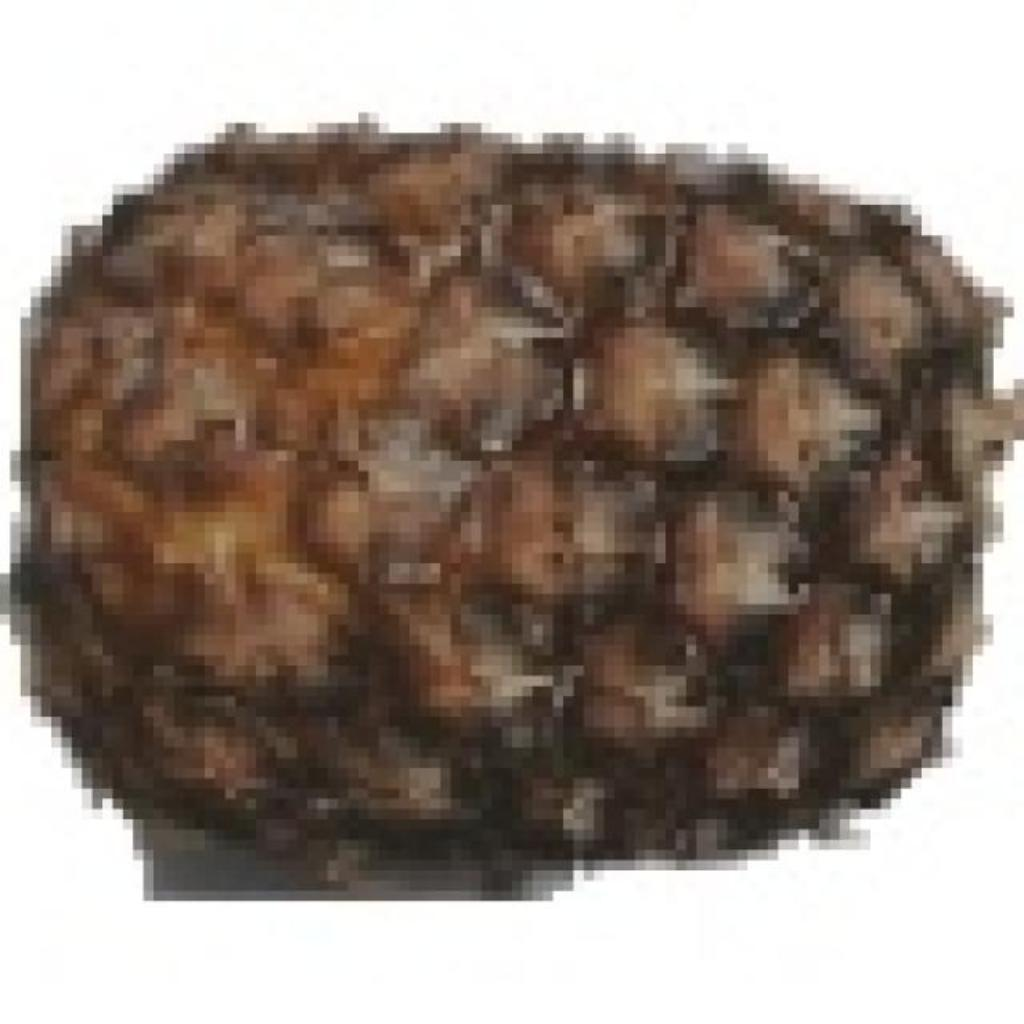pineapple: (41, 113, 1014, 870)
